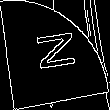N_W: (30, 31, 80, 79)
